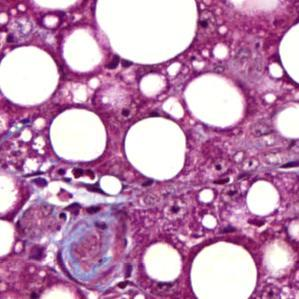steatosis: (127, 115, 189, 181), (1, 43, 64, 103), (188, 243, 257, 296), (46, 106, 108, 164), (141, 243, 184, 282), (244, 178, 282, 215)
